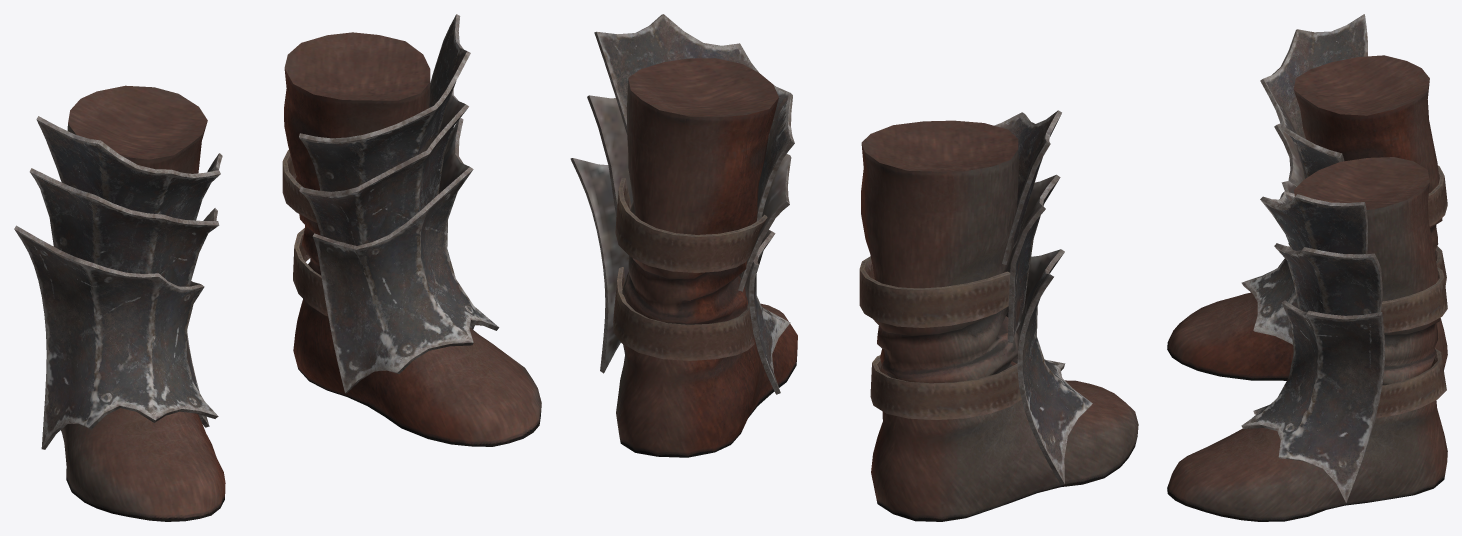
Rendered from sk_dg_uruk_boots_heavy_c.fbx.
3 views of the same model, side by side, from view 1: azimuth 30°, elevation 25°; view 2: azimuth 150°, elevation 25°; view 3: azimuth 270°, elevation 25° (orthographic). The views are drawn at different scales.
Visible parts, largest first — view 1: sk_dg_uruk_boots_heavy_c.0, sk_dg_uruk_boots_heavy_c.1; view 2: sk_dg_uruk_boots_heavy_c.0, sk_dg_uruk_boots_heavy_c.1; view 3: sk_dg_uruk_boots_heavy_c.0, sk_dg_uruk_boots_heavy_c.1.
Part boxes in pixels (x1,y1,x2,y2): sk_dg_uruk_boots_heavy_c.0: [14, 14, 541, 521]; sk_dg_uruk_boots_heavy_c.1: [282, 150, 327, 316]; sk_dg_uruk_boots_heavy_c.0: [570, 14, 1138, 521]; sk_dg_uruk_boots_heavy_c.1: [613, 178, 1021, 419]; sk_dg_uruk_boots_heavy_c.0: [1167, 14, 1447, 521]; sk_dg_uruk_boots_heavy_c.1: [1376, 165, 1447, 417].
Bounding box in the file's own units: 0.572 × 0.3359 × 0.4172.
Materials: 2 (2 with a texture image).
